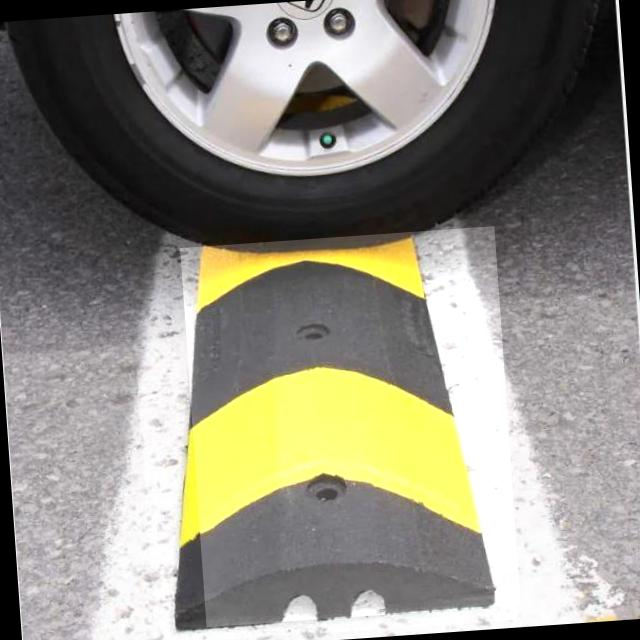bump: (180, 226, 520, 627)
